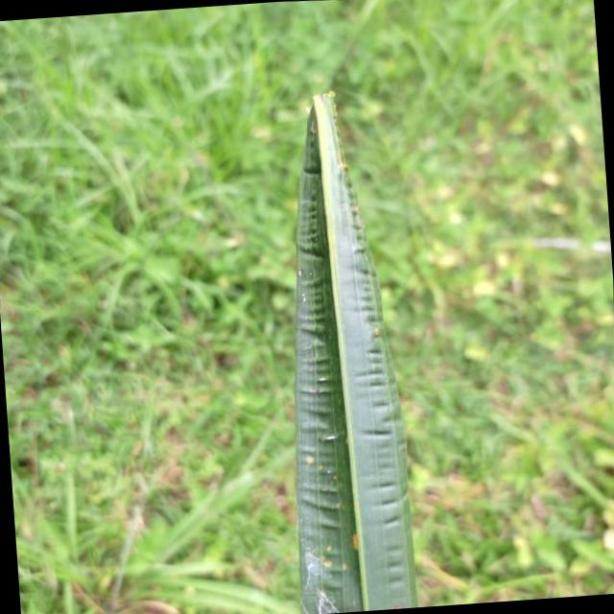Boron: (289, 86, 419, 614)
